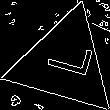L_W: (35, 41, 93, 85)
